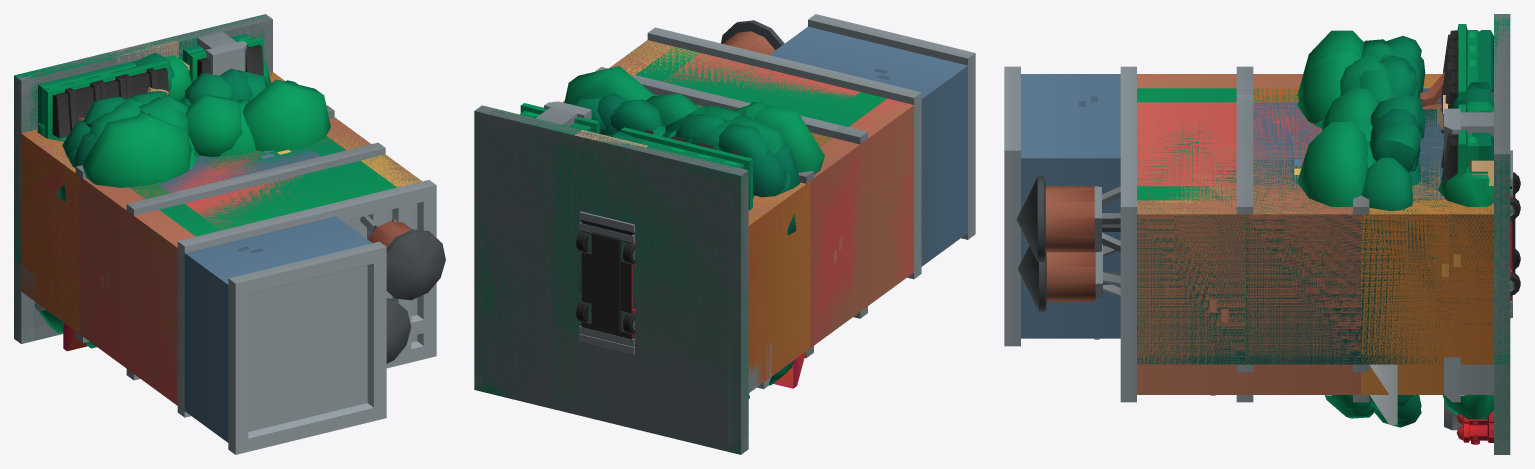
Rendered from citykit.glb.
The picture shows the model from 3 angles, left to right: view 1: azimuth 30°, elevation 25°; view 2: azimuth 150°, elevation 25°; view 3: azimuth 270°, elevation 25°; orthographic projection. The views are drawn at different scales.
Visible parts, largest first — view 1: building_H, building_E, building_F, building_D, park_wall_outerCorner_decorated, base, park_wall_innerCorner_decorated, building_C, building_G, park_wall_straight_decorated, building_A, road_corner (+10 smaller); view 2: base, road_corner, building_E, building_H, building_F, road_junction, building_D, park_wall_straight, park_wall_outerCorner, building_C, car_hatchback, park_wall_outerCorner_decorated (+16 smaller); view 3: building_E, building_G, building_H, building_C, building_D, park_wall_innerCorner_decorated, park_base_decorated_trees, building_A, base, park_wall_outerCorner_decorated, road_straight, building_B (+12 smaller).
Boxes of the visible parts, <box> form: building_H: <box>38,71,445,454</box>; building_E: <box>21,34,436,417</box>; building_F: <box>21,73,436,416</box>; building_D: <box>129,136,411,363</box>; park_wall_outerCorner_decorated: <box>82,52,255,187</box>; base: <box>14,14,272,343</box>; park_wall_innerCorner_decorated: <box>68,55,330,348</box>; building_C: <box>162,153,386,240</box>; building_G: <box>23,54,436,417</box>; park_wall_straight_decorated: <box>57,73,242,326</box>; building_A: <box>157,147,334,196</box>; road_corner: <box>14,14,272,342</box>; base: <box>474,105,748,454</box>; road_corner: <box>474,105,748,453</box>; building_E: <box>520,27,921,388</box>; building_H: <box>601,14,975,357</box>; building_F: <box>564,28,921,386</box>; road_junction: <box>480,106,748,449</box>; building_D: <box>629,34,894,146</box>; park_wall_straight: <box>474,101,740,450</box>; park_wall_outerCorner: <box>474,102,770,448</box>; building_C: <box>647,40,867,109</box>; car_hatchback: <box>579,222,635,346</box>; park_wall_outerCorner_decorated: <box>597,93,824,174</box>; building_E: <box>1120,67,1493,424</box>; building_G: <box>1121,38,1493,444</box>; building_H: <box>1004,24,1493,394</box>; building_C: <box>1137,95,1441,186</box>; building_D: <box>1018,81,1298,311</box>; park_wall_innerCorner_decorated: <box>1297,65,1493,206</box>; park_base_decorated_trees: <box>1297,47,1421,409</box>; building_A: <box>1236,94,1493,424</box>; base: <box>1494,14,1510,454</box>; park_wall_outerCorner_decorated: <box>1297,30,1493,141</box>; road_straight: <box>1494,14,1510,454</box>; building_B: <box>1237,52,1493,200</box>.
Bounding box in the file's own units: 2.02 × 2.03 × 3.11.
Materials: 65 (65 with a texture image).
